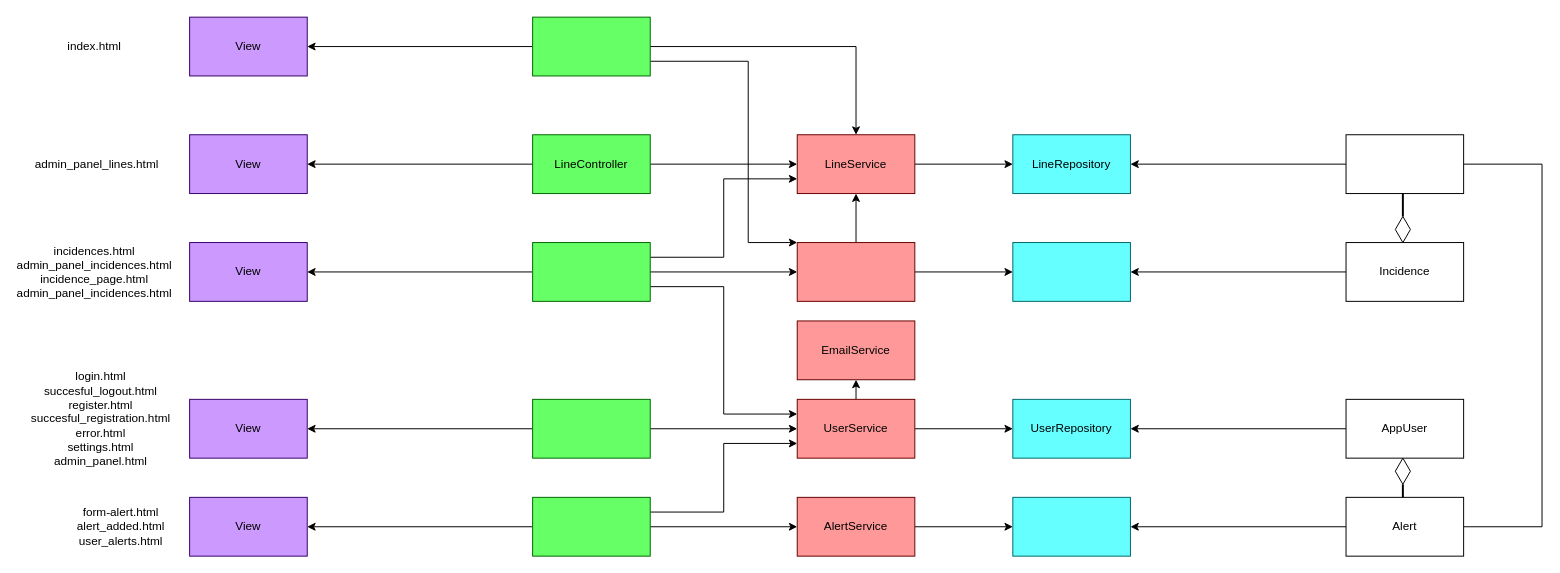
Image size: 1560x573. Some labels were removed from this diagram. Here are the shapes that lost their labels. From the top down, the box of each, then its label:
(532, 16, 650, 76): HomeController
(1345, 134, 1464, 194): Line
(532, 242, 650, 301): IncidenceController
(796, 242, 915, 301): IncidenceService
(1012, 242, 1130, 301): IncidenceRepository
(532, 398, 650, 458): UserController
(532, 496, 650, 556): AlertController
(1012, 496, 1130, 556): AlertRepository
